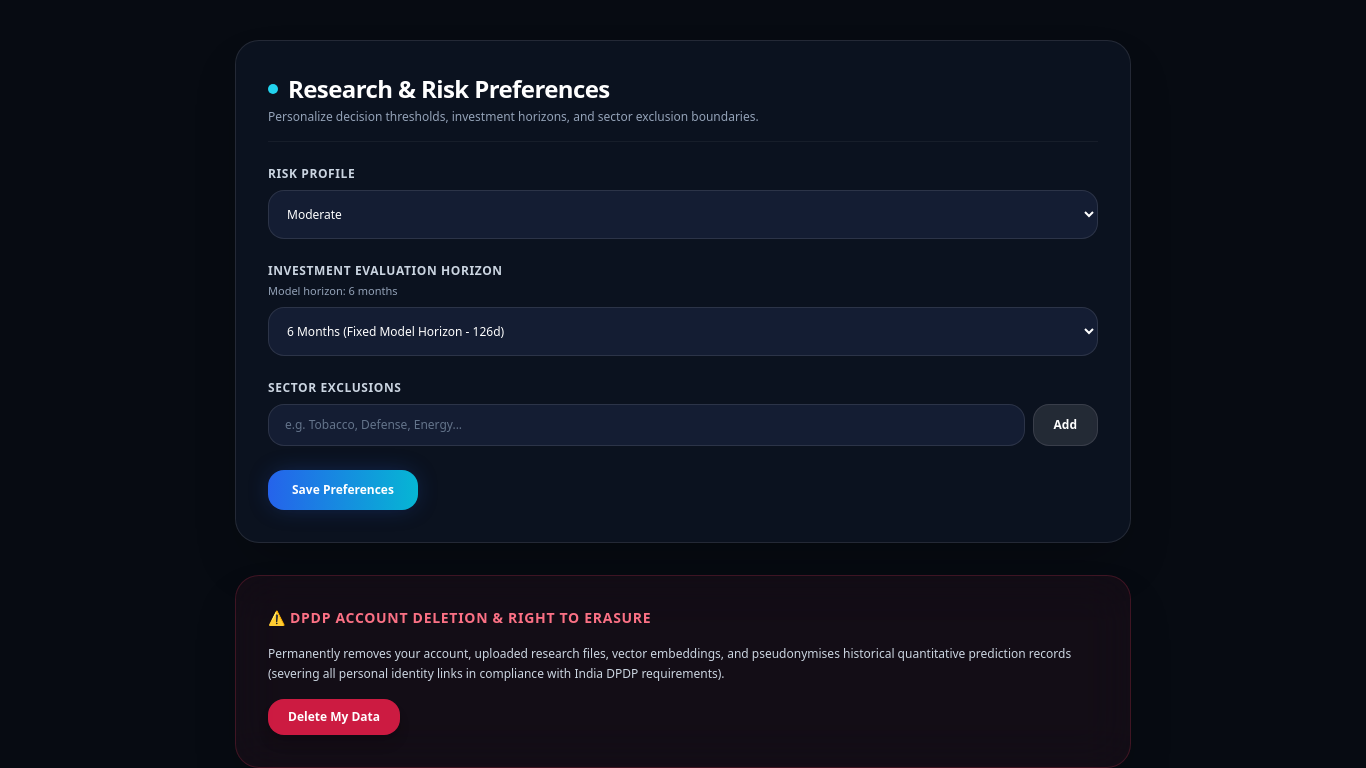
Test case: User Features UI › enforces typing exact string DELETE in confirmation dialog before deleting data
Step 1. Click the button "Delete My Data" → (334, 717), box [268, 699, 400, 735]
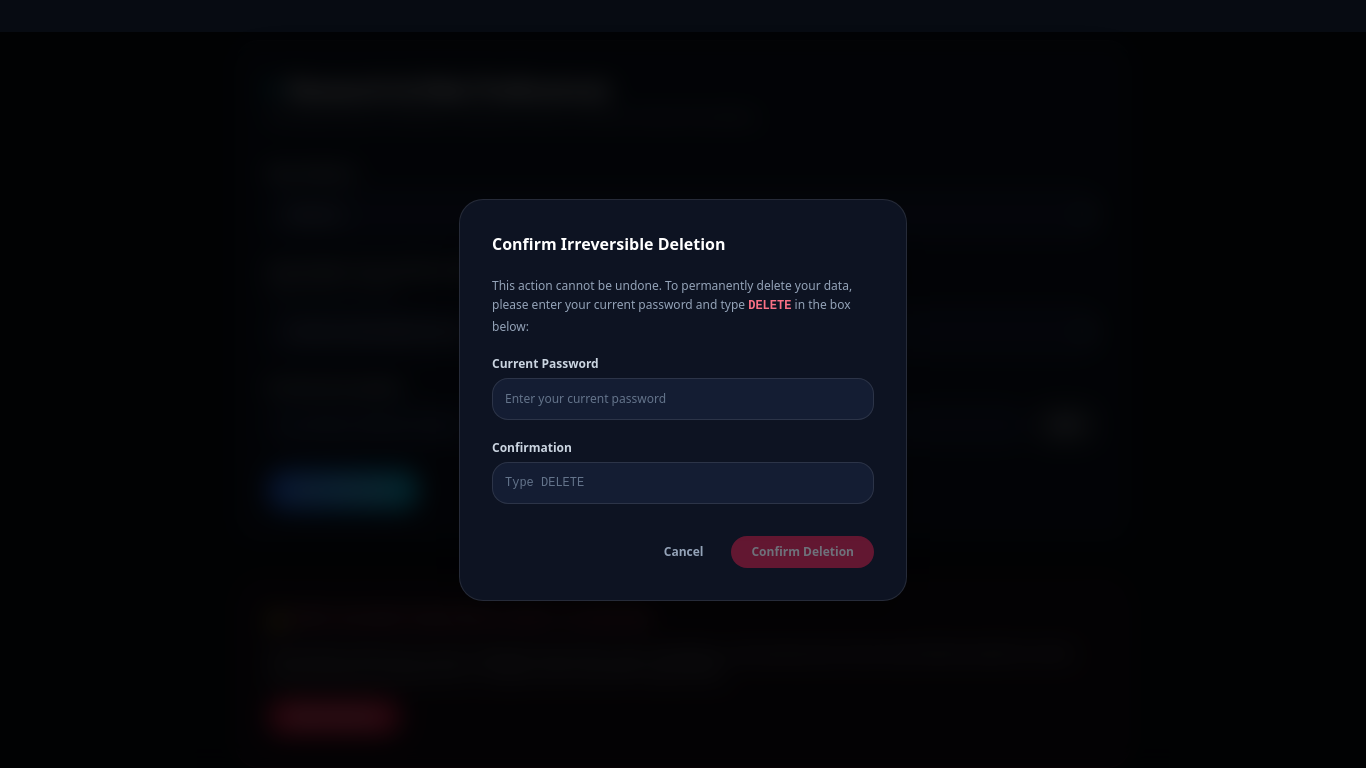
Expected: the button with test id "delete-confirm-button" is disabled, [732, 536, 874, 568]
# Type partial string without password
Step 2. Type "DEL" into the field with test id "delete-confirm-input" → (683, 483), box [492, 462, 874, 504]
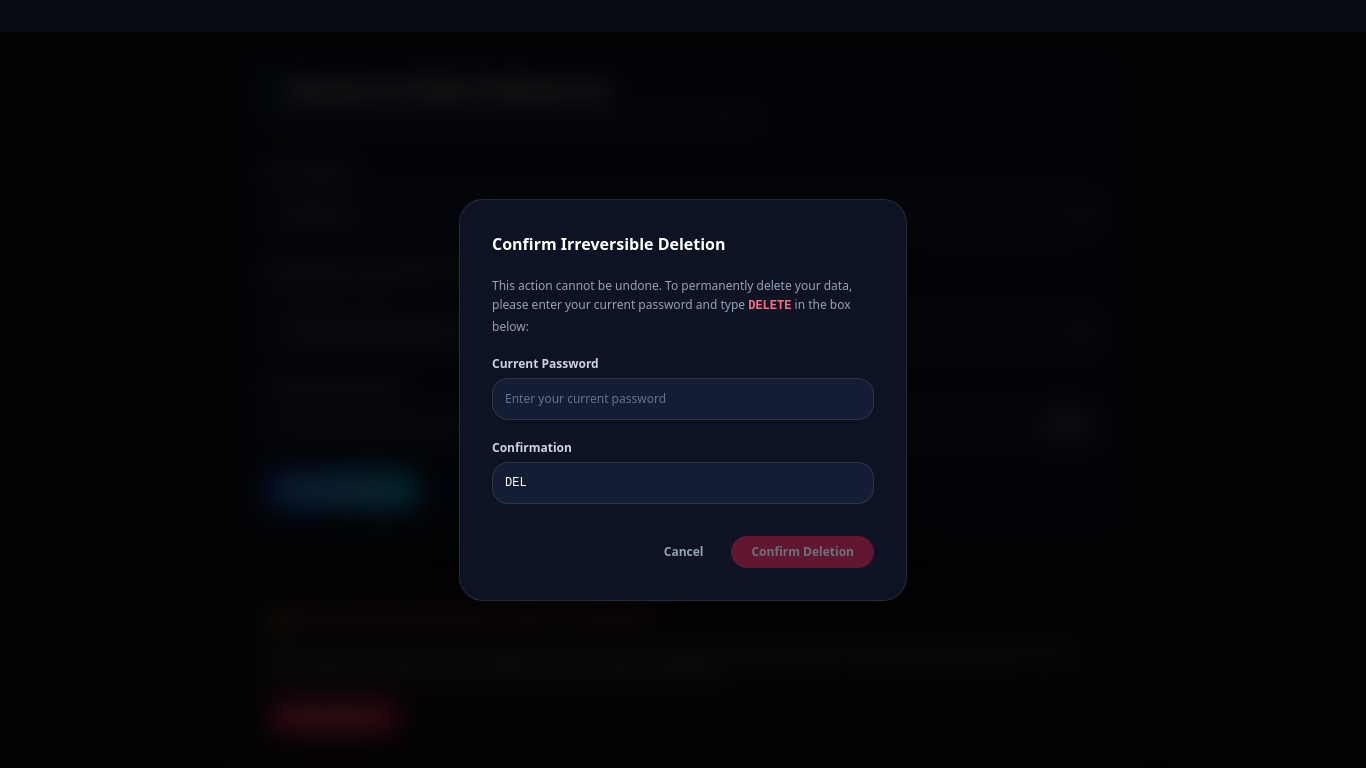
Expected: the button with test id "delete-confirm-button" is disabled, [732, 536, 874, 568]
# Type exact string without password
Step 3. Replace the text in the field with test id "delete-confirm-input" with "DELETE" → (683, 483), box [492, 462, 874, 504]
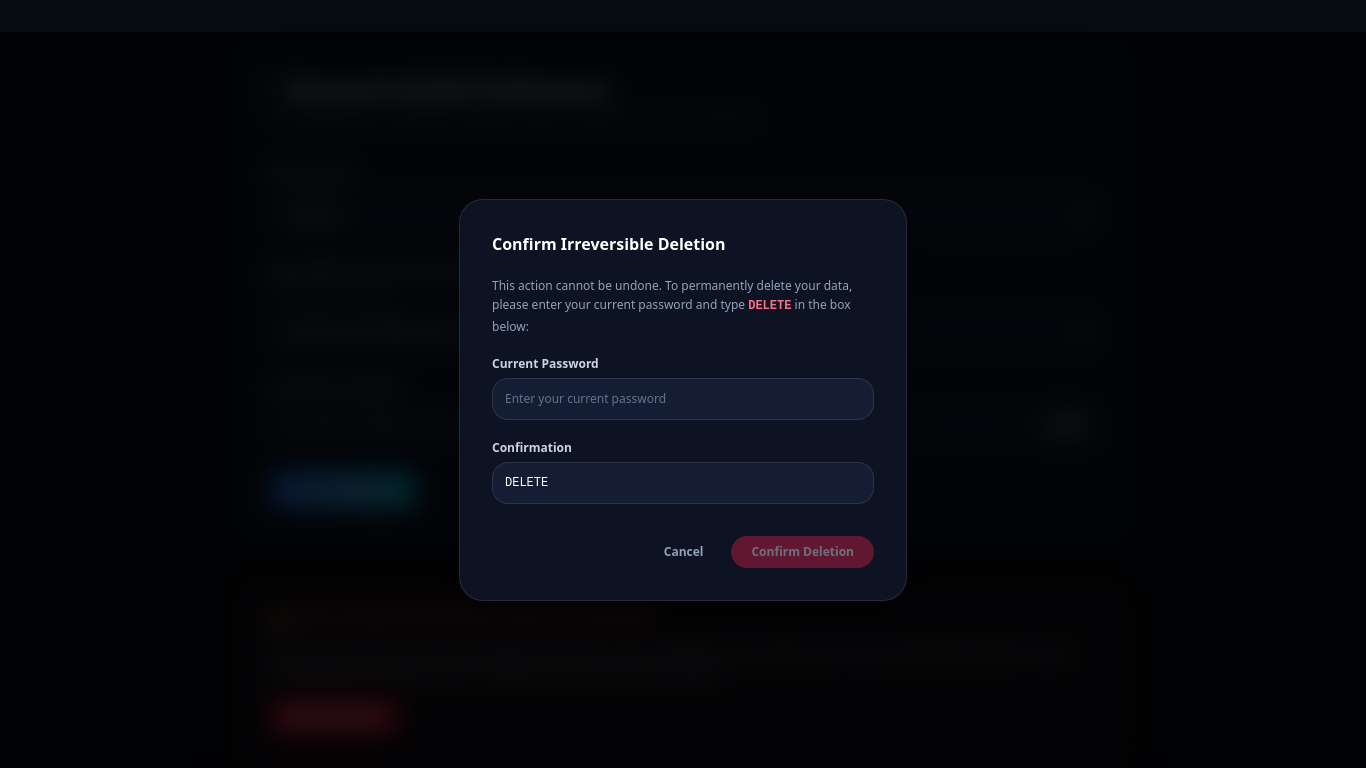
Expected: the button with test id "delete-confirm-button" is disabled, [732, 536, 874, 568]
# Type password
Step 4. Type "ValidPassword123!" into the password field with test id "delete-password-input" → (683, 399), box [492, 378, 874, 420]
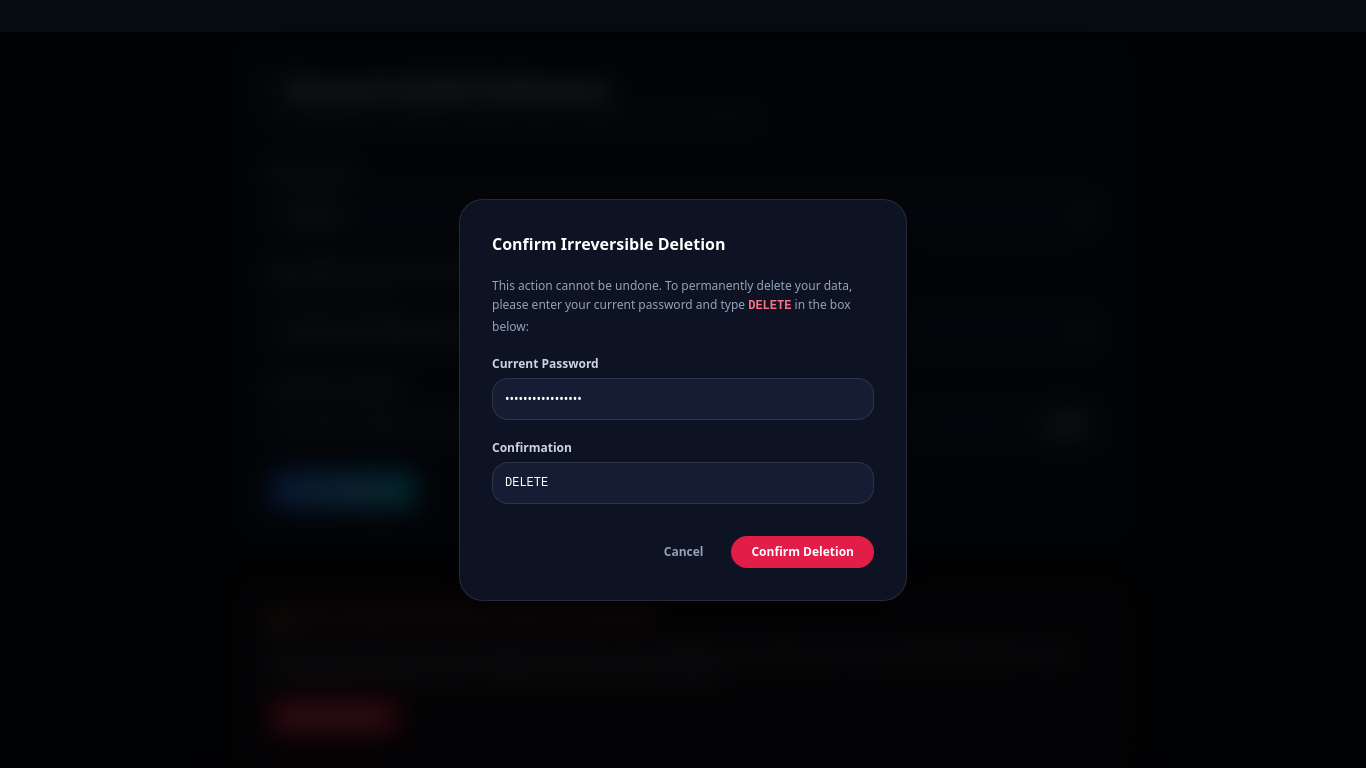
Expected: the button with test id "delete-confirm-button" is enabled, [732, 536, 874, 568]
